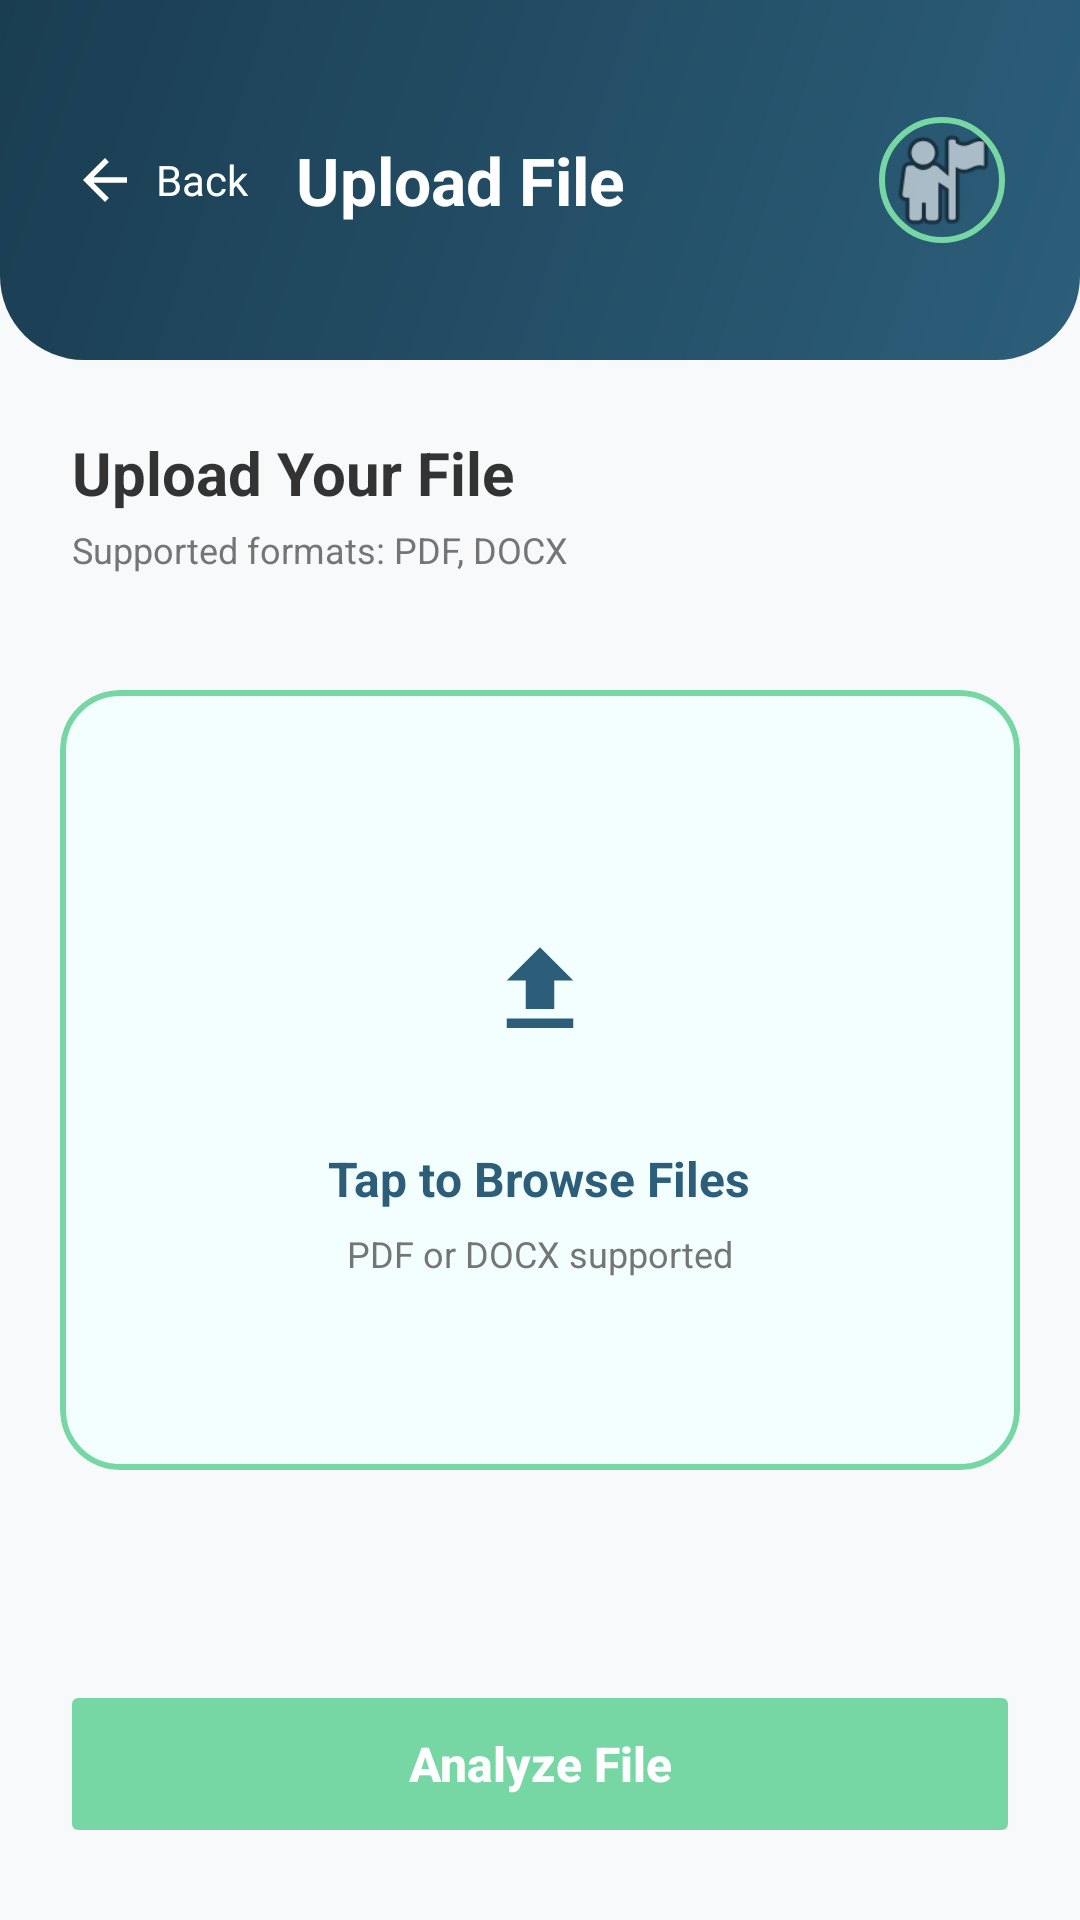

Named icons in this screenshot (1080 × 1920) and their centers, point (x, y):
myplaces: point (942, 180)
upload: point (540, 987)
